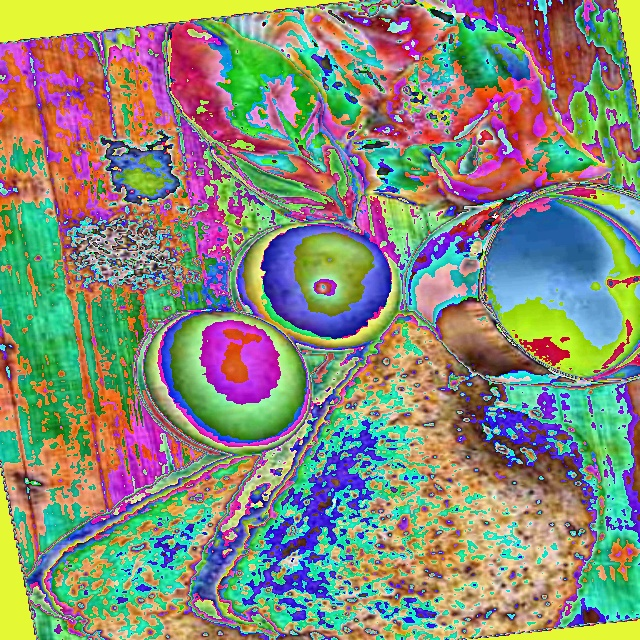background: (25, 0, 639, 640)
